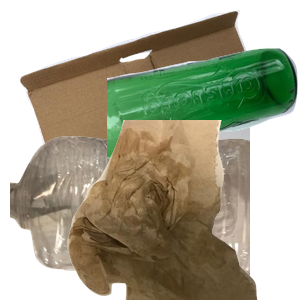cardboard: (16, 10, 256, 190)
glass: (107, 46, 300, 197)
plastic: (10, 134, 250, 300)
trash: (65, 120, 300, 300)
